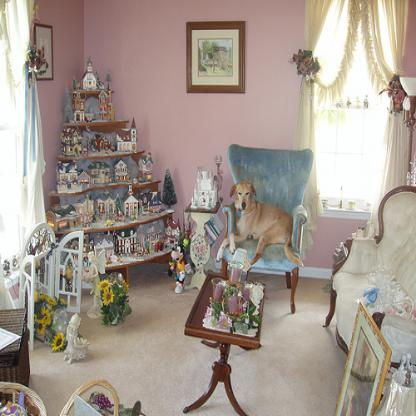chair: (321, 184, 415, 371), (220, 143, 314, 315)
dog: (214, 178, 304, 270)
